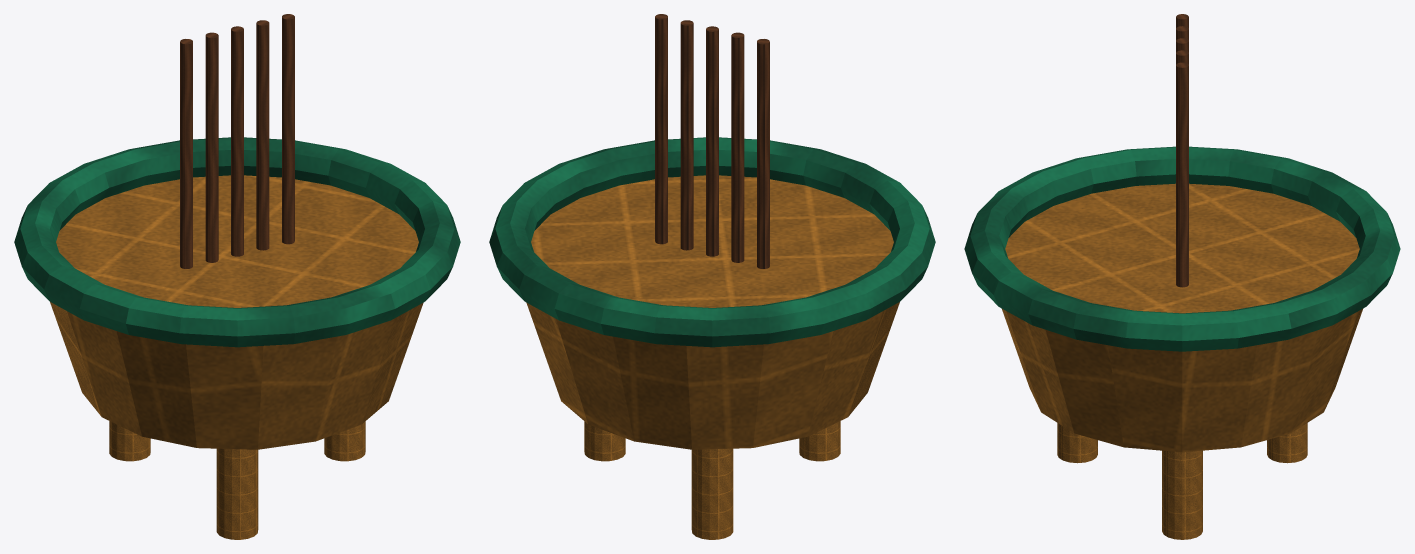
The model's file is incense_burner.glb.
The picture shows the model from 3 angles, left to right: view 1: azimuth 30°, elevation 25°; view 2: azimuth 150°, elevation 25°; view 3: azimuth 270°, elevation 25°; orthographic projection. The views are drawn at different scales.
Parts seen in each view (by area): view 1: incense_burner_Brass, incense_burner_Jade, incense_burner_Walnut; view 2: incense_burner_Brass, incense_burner_Jade, incense_burner_Walnut; view 3: incense_burner_Brass, incense_burner_Jade, incense_burner_Walnut.
Part boxes in pixels (x1,y1,x2,y2): incense_burner_Brass: [50, 175, 423, 539]; incense_burner_Jade: [14, 137, 460, 347]; incense_burner_Walnut: [180, 14, 294, 268]; incense_burner_Brass: [526, 175, 899, 539]; incense_burner_Jade: [489, 137, 935, 347]; incense_burner_Walnut: [655, 14, 769, 268]; incense_burner_Brass: [1002, 183, 1362, 539]; incense_burner_Jade: [964, 146, 1400, 351]; incense_burner_Walnut: [1176, 14, 1188, 287].
Bounding box in the file's own units: 0.684 × 0.76 × 0.684.
3 materials, 3 textured.
